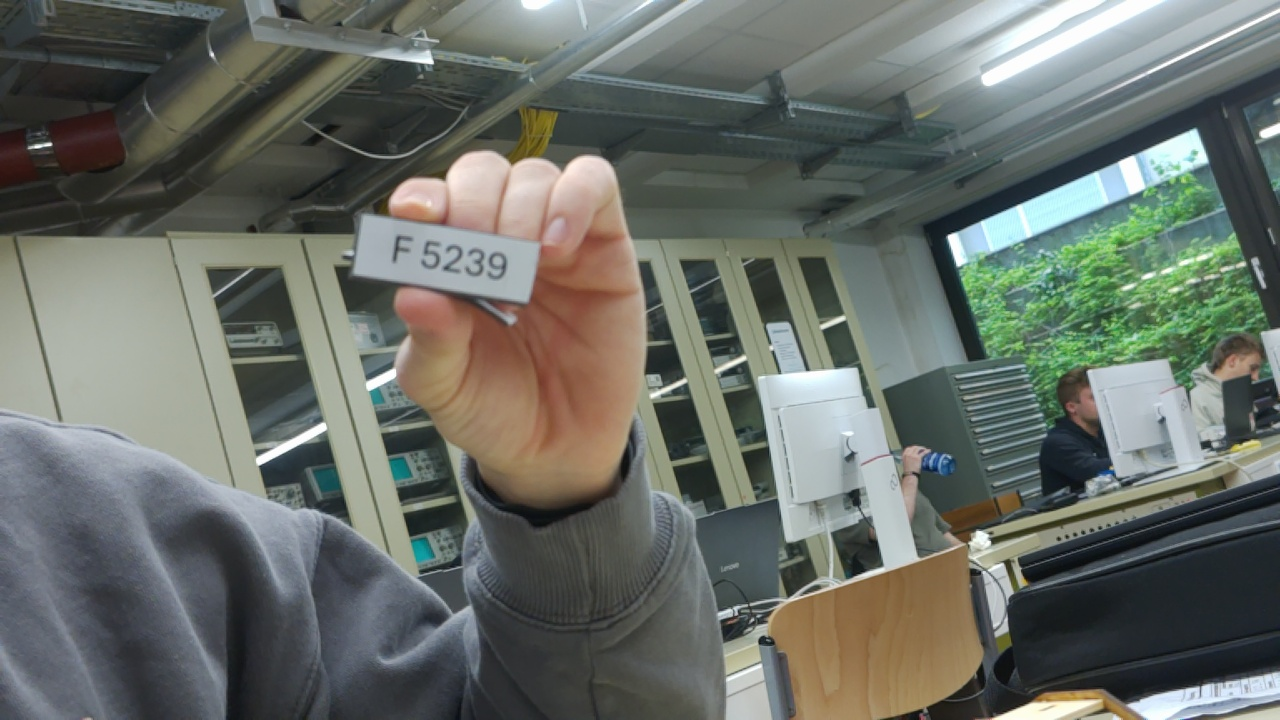license_plate: (348, 205, 547, 310)
